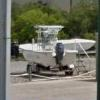Boat: (17, 22, 94, 78)
